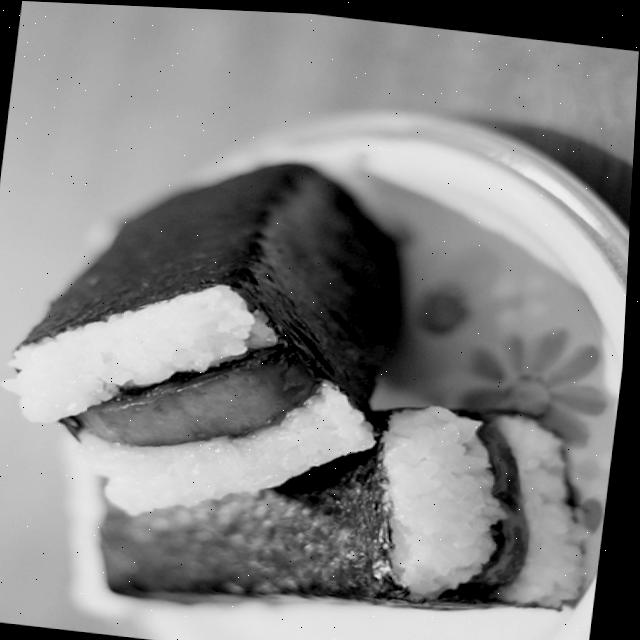寿司卷物: (0, 109, 636, 640)
